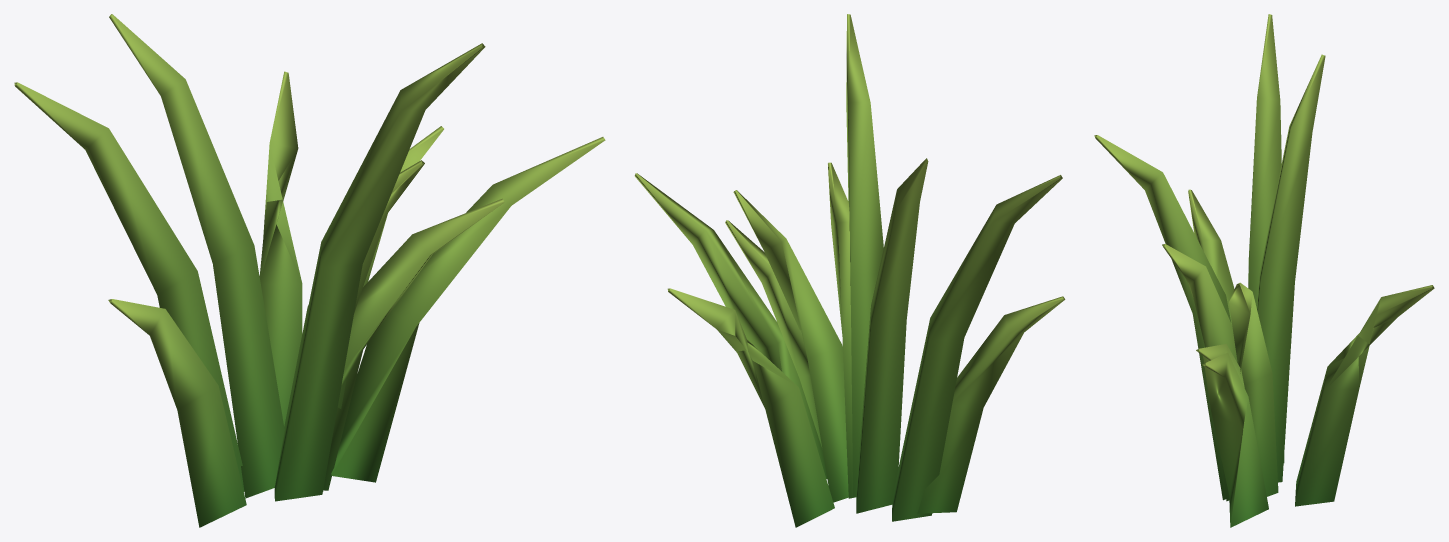
File: tuft.glb
The picture shows the model from 3 angles, left to right: view 1: azimuth 30°, elevation 25°; view 2: azimuth 150°, elevation 25°; view 3: azimuth 270°, elevation 25°; orthographic projection. The views are drawn at different scales.
Parts seen in each view (by area): view 1: tuft; view 2: tuft; view 3: tuft.
Boxes of the visible parts, x1,y1,x2,y2 form: tuft: (14,14,605,527); tuft: (634,14,1065,527); tuft: (1094,14,1434,527).
Size of the model in its own units: 0.8917 by 0.7615 by 0.5826.
